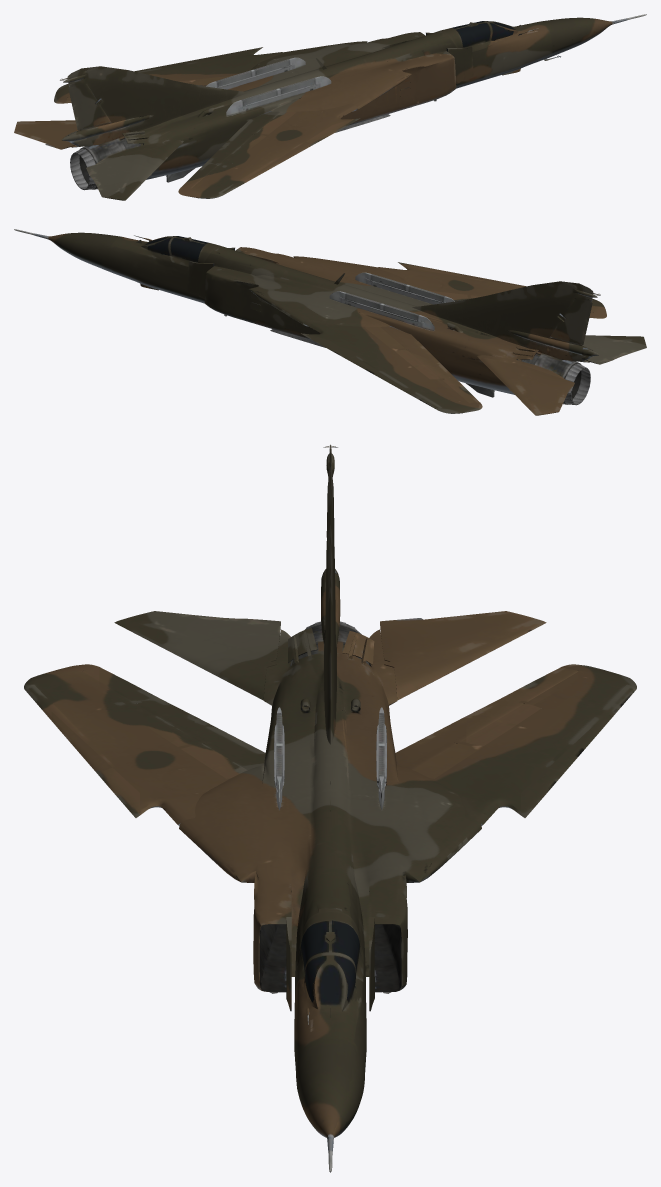
Rendered from fh_hangar_fighter_1.glb.
3 renders of one model, top to bottom at view 1: azimuth 30°, elevation 25°; view 2: azimuth 150°, elevation 25°; view 3: azimuth 270°, elevation 25°, orthographic. The views are drawn at different scales.
Parts seen in each view (by area): view 1: fh_hangar_fighter_1, flap_r, slat_r, slat_l; view 2: fh_hangar_fighter_1, flap_l, slat_l, slat_r; view 3: fh_hangar_fighter_1, flap_l, flap_r, slat_l, slat_r.
Boxes of the visible parts, <box> form: fh_hangar_fighter_1: <box>14,14,646,200</box>; flap_r: <box>180,134,259,187</box>; slat_r: <box>248,118,360,178</box>; slat_l: <box>134,47,262,71</box>; fh_hangar_fighter_1: <box>14,229,646,415</box>; flap_l: <box>401,349,480,402</box>; slat_l: <box>301,333,412,393</box>; slat_r: <box>398,262,526,286</box>; fh_hangar_fighter_1: <box>24,444,636,1172</box>; flap_l: <box>466,667,561,744</box>; flap_r: <box>99,667,194,744</box>; slat_l: <box>521,712,609,817</box>; slat_r: <box>51,712,139,817</box>.
Size of the model in its own units: 1 by 0.2186 by 0.4508.
3 materials, 2 textured.
